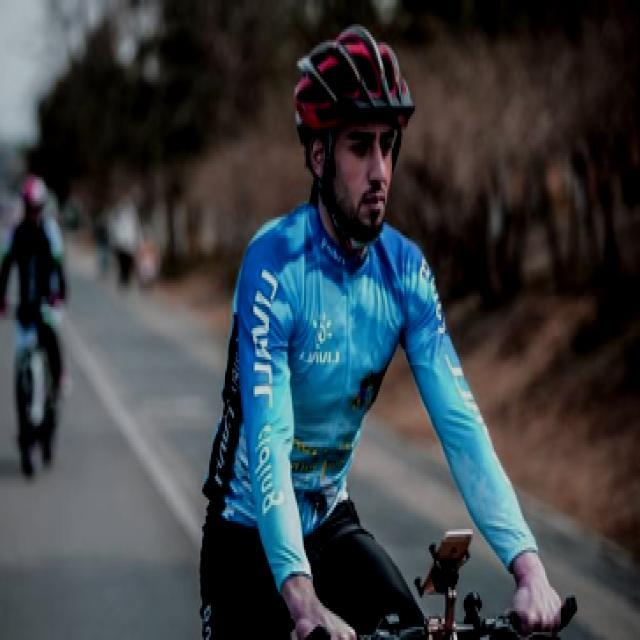Helmet: (294, 22, 416, 235)
